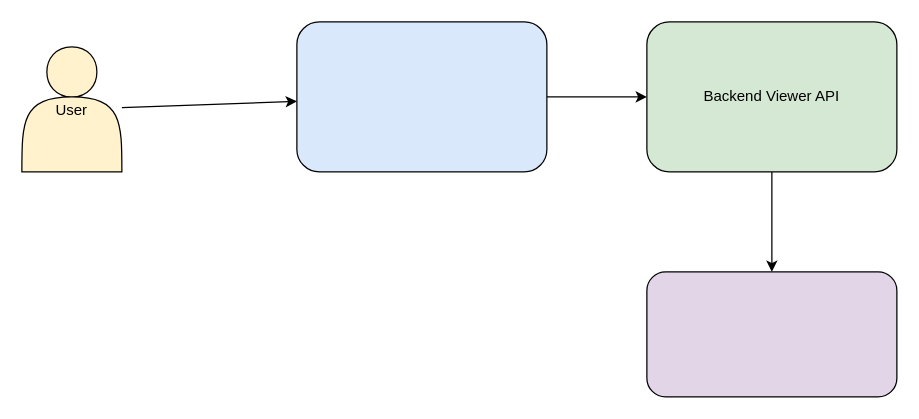
Image size: 919x419. Some labels were removed from this diagram. The shapes that lost their labels are listed below. From the top down, each one's centre as x and y in pixels, then its label:
At (x=421, y=96): "KB Graph Webview".
At (x=771, y=334): "Pega Rule Index".
